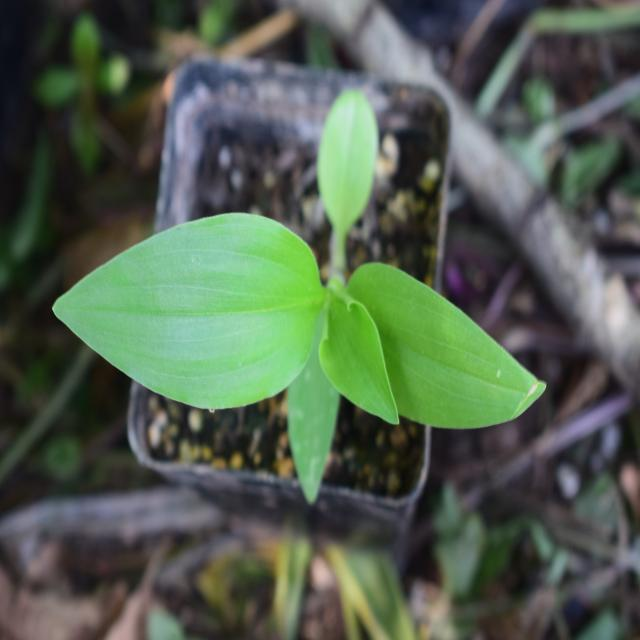Common Dayflower: (51, 136, 518, 482)
